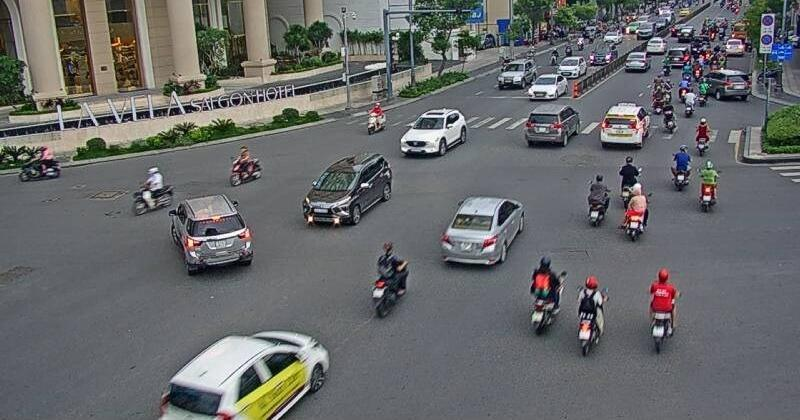xe hoi: (157, 332, 327, 420), (167, 193, 252, 274), (301, 153, 392, 226), (441, 195, 524, 266), (400, 108, 466, 155), (524, 103, 579, 145), (600, 103, 651, 147)
xe may: (529, 255, 567, 335), (371, 241, 408, 318), (648, 268, 678, 354), (576, 276, 607, 357), (228, 144, 262, 187), (696, 159, 722, 211), (587, 174, 612, 227), (669, 144, 692, 190)
